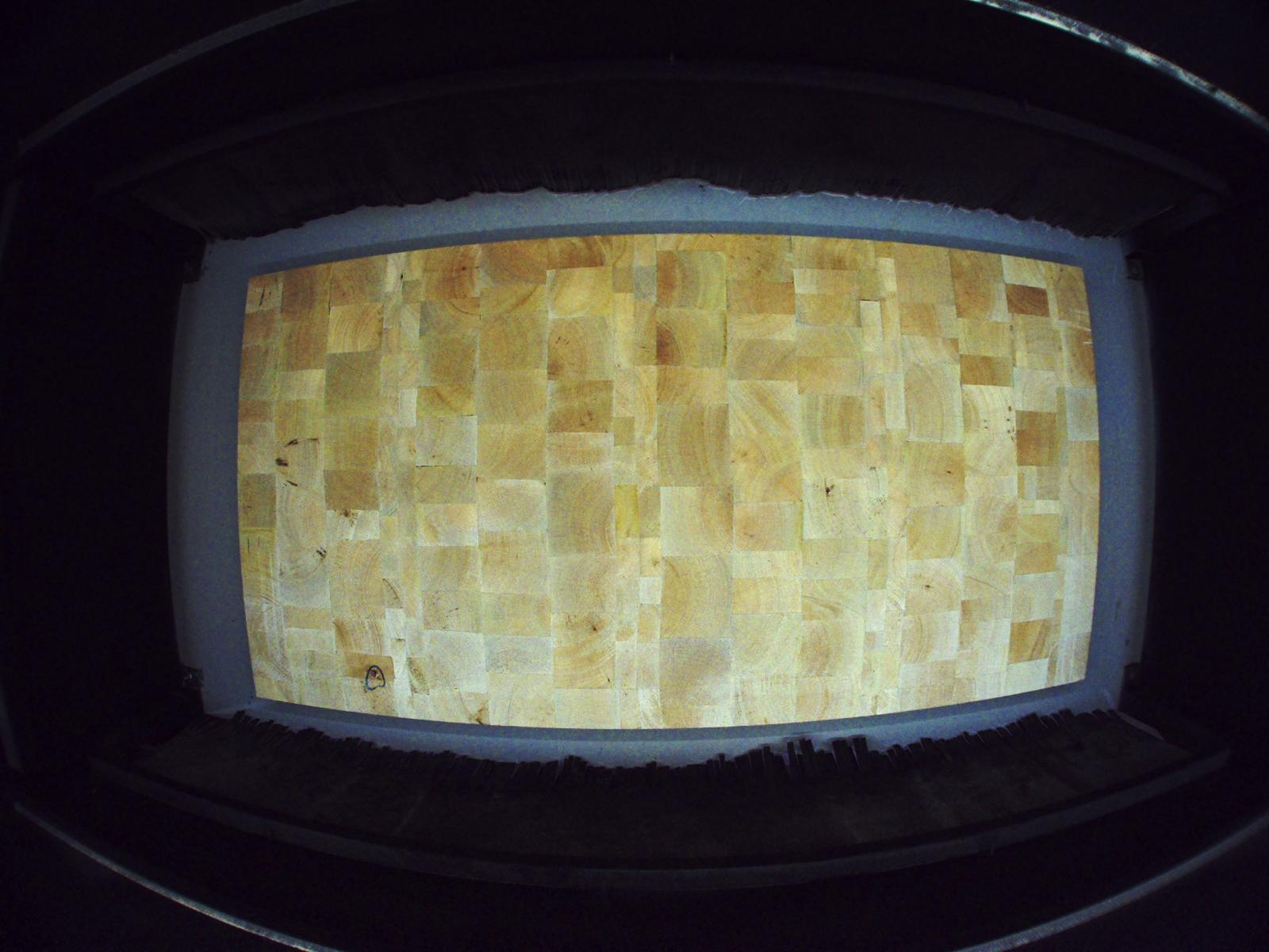nudillo: (368, 668, 383, 681)
